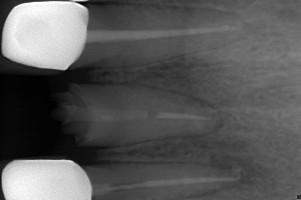Furcation Involvement: (209, 152, 269, 190)
